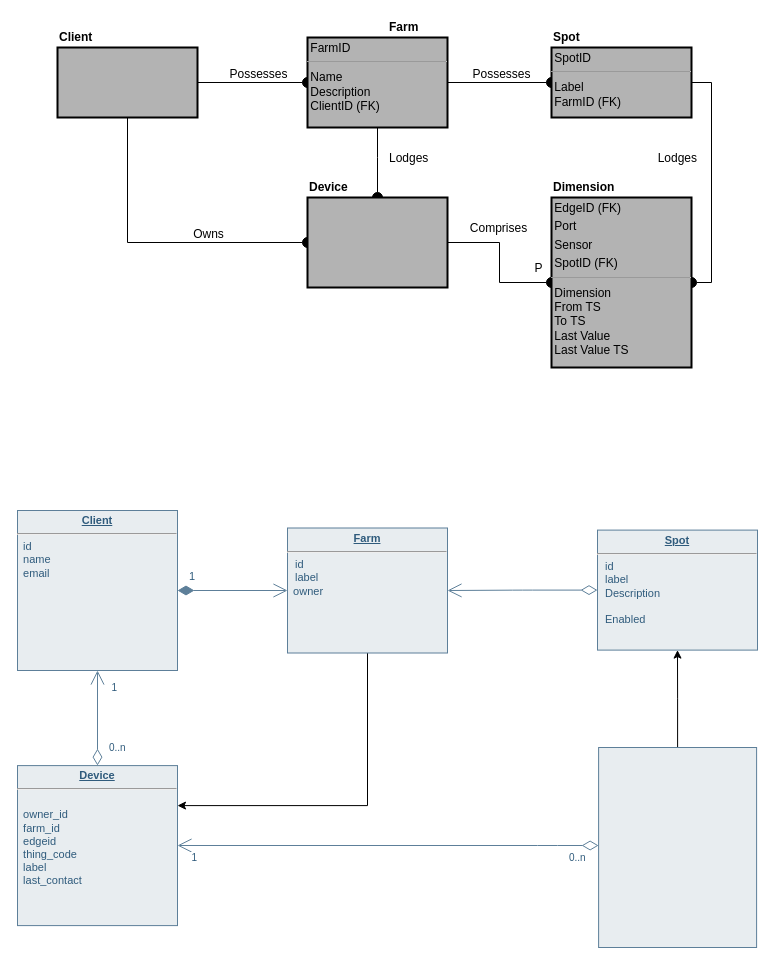
Image size: 775x965. Some labels were removed from this diagram. The centre of each missing label's shape, as x and y in pixels:
"ClientID Name Email" belongs at point 127,82.
"Dimension edgeid port sensor dimension from to" belongs at point 677,847.
"EdgeID ClientID (FK) FarmID (FK) Thing Code" belongs at point 377,242.
